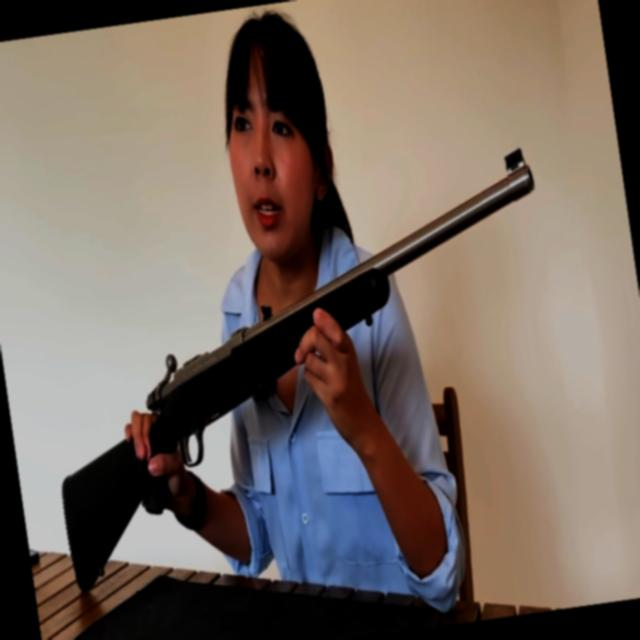rifle: (18, 134, 596, 604)
